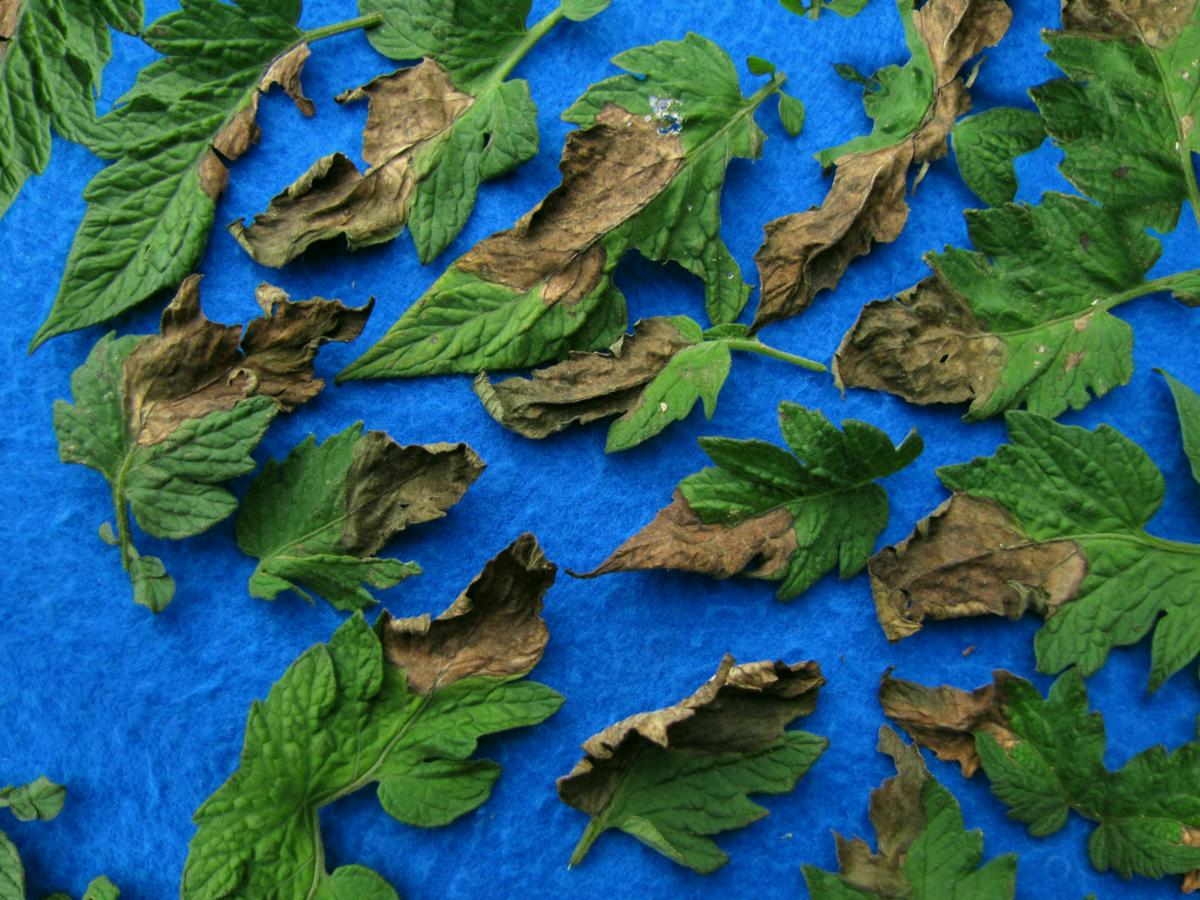Tomato leaf late blight: (360, 0, 785, 483), (212, 456, 619, 885), (0, 192, 386, 637), (0, 0, 366, 393), (822, 132, 1200, 512), (223, 0, 613, 356), (524, 568, 868, 900), (605, 338, 940, 670), (185, 346, 523, 667), (455, 230, 790, 537), (850, 610, 1132, 842), (760, 720, 1068, 900)
